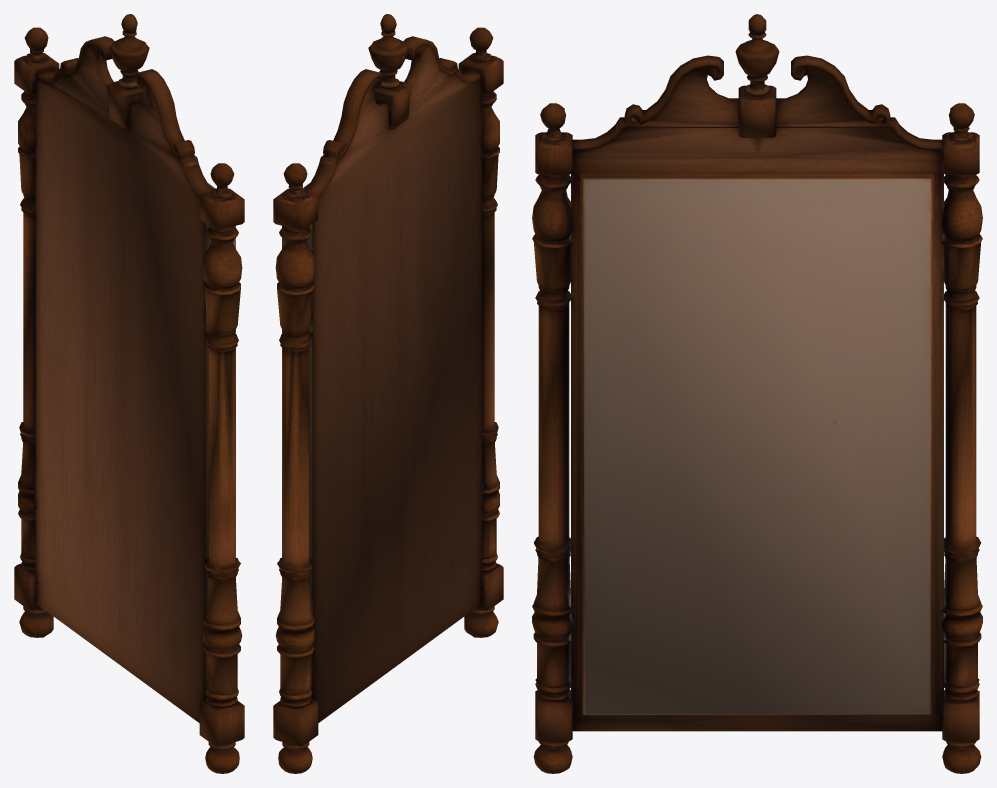
The picture shows the model from 3 angles, left to right: view 1: azimuth 30°, elevation 25°; view 2: azimuth 150°, elevation 25°; view 3: azimuth 270°, elevation 25°; orthographic projection. The views are drawn at different scales.
Visible parts, largest first — view 1: tripo_node_612d12f4-a16a-4cba-9463-0eb848d1ba43; view 2: tripo_node_612d12f4-a16a-4cba-9463-0eb848d1ba43; view 3: tripo_node_612d12f4-a16a-4cba-9463-0eb848d1ba43.
Part boxes in pixels (<box>): tripo_node_612d12f4-a16a-4cba-9463-0eb848d1ba43: <box>14,14,244,773</box>; tripo_node_612d12f4-a16a-4cba-9463-0eb848d1ba43: <box>273,14,503,773</box>; tripo_node_612d12f4-a16a-4cba-9463-0eb848d1ba43: <box>532,14,982,773</box>.
Bounding box in the file's own units: 0.0684 × 0.998 × 0.541.
Materials: 1 (1 with a texture image).
